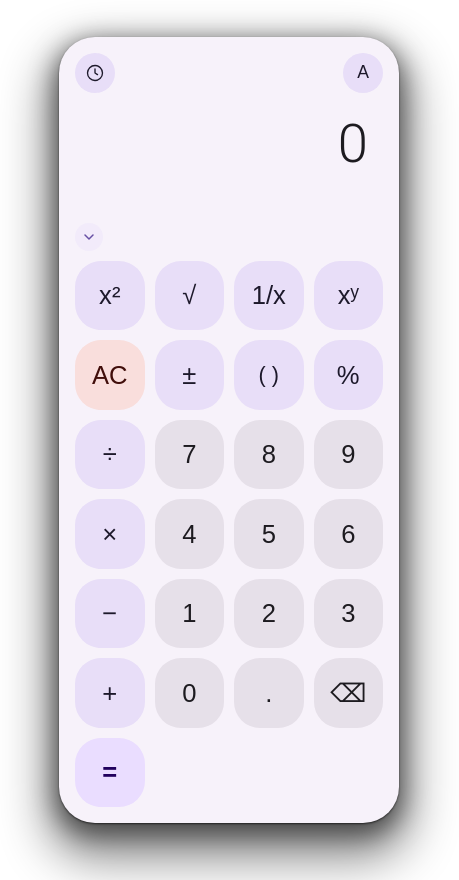
Test: Calculator component › shows Error on 10 / 0 (spec)
Click the button "1". click: (189, 614)
box: top-left (154, 579), bottom-right (224, 648)
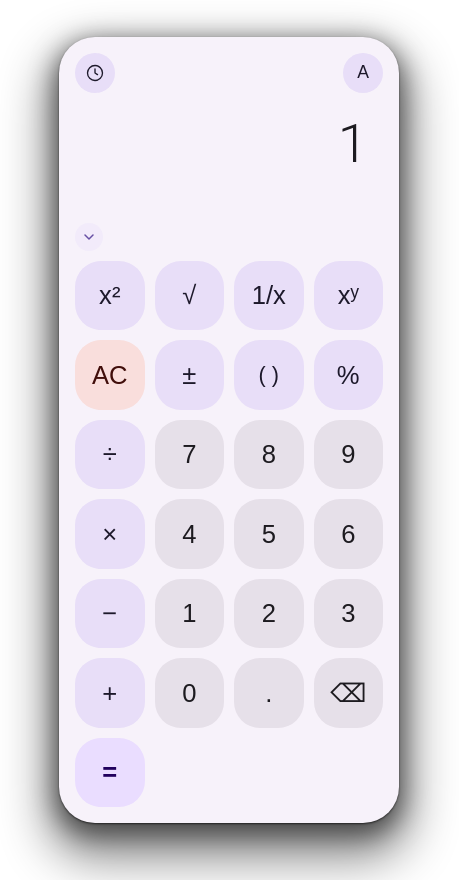
Click the button "0". click: (189, 693)
box: top-left (154, 658), bottom-right (224, 728)
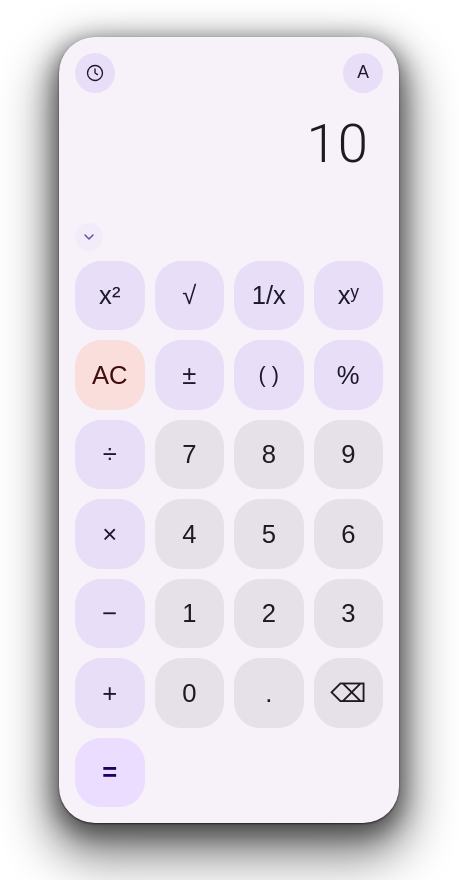
Click the button "÷". click: (110, 455)
box: top-left (75, 420), bottom-right (144, 489)
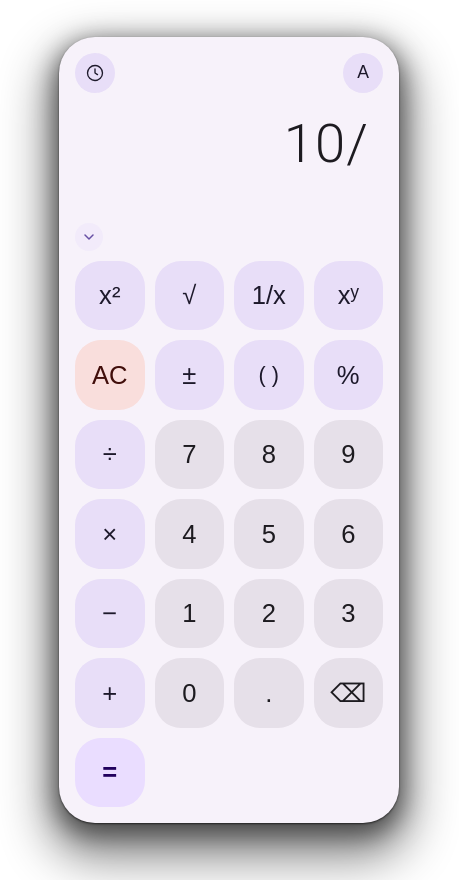
Click the button "0". click: (189, 693)
box: top-left (154, 658), bottom-right (224, 728)
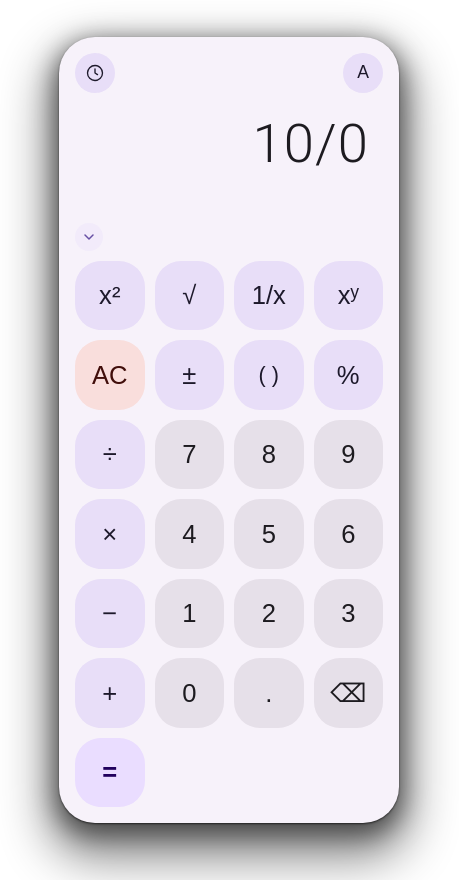
Click the button "=". click: (110, 773)
box: top-left (75, 738), bottom-right (144, 807)
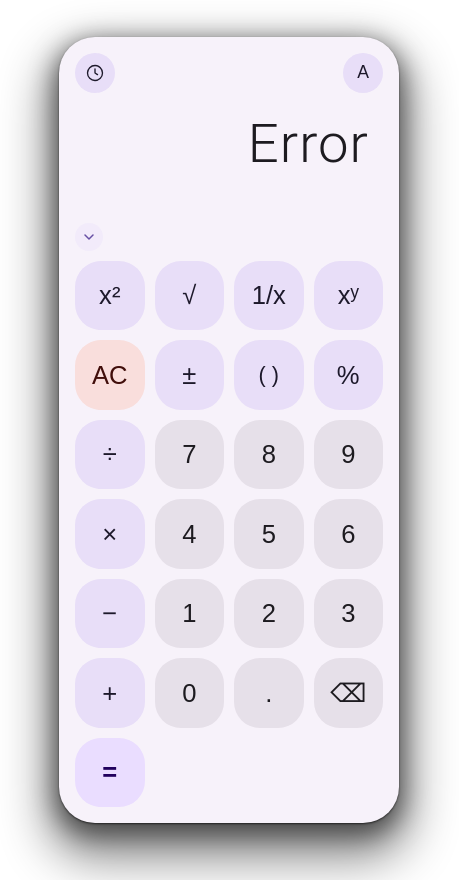
Now the message with test id "display" reads "Error", box top-left (248, 112), bottom-right (369, 175)
